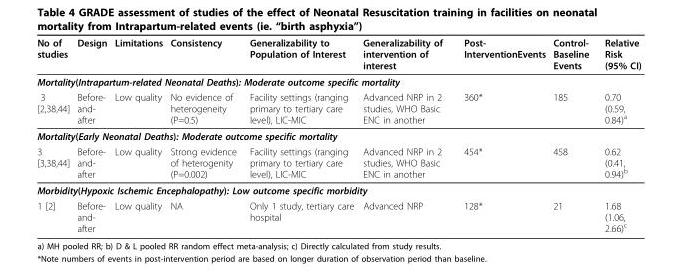table: (36, 36, 640, 233)
table column: (242, 36, 357, 233), (452, 36, 548, 233), (357, 36, 452, 233), (165, 36, 242, 233), (110, 36, 165, 233), (548, 36, 596, 233), (596, 36, 640, 233), (72, 36, 110, 233), (36, 36, 72, 233)
table column header: (36, 36, 640, 73)
table projected row header: (36, 73, 640, 89), (36, 127, 640, 143), (36, 181, 640, 197)
table row: (36, 89, 640, 127), (36, 143, 640, 181), (36, 36, 640, 73), (36, 197, 640, 233), (36, 73, 640, 89), (36, 127, 640, 143), (36, 181, 640, 197)
